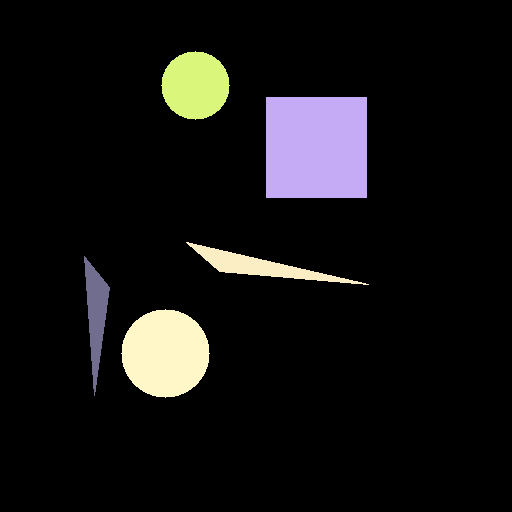circle: (121, 309, 209, 397), (161, 51, 229, 119)
square: (266, 97, 366, 197)
triangle: (186, 242, 368, 284), (84, 256, 109, 395)
